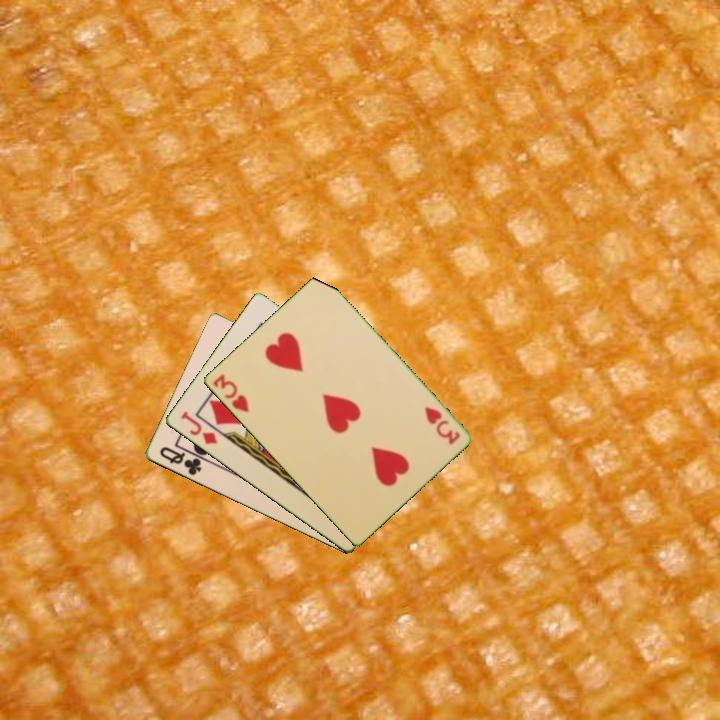3h: (209, 370, 252, 415), (420, 403, 463, 448)
Jd: (177, 408, 220, 447)
Qc: (156, 443, 204, 479)
